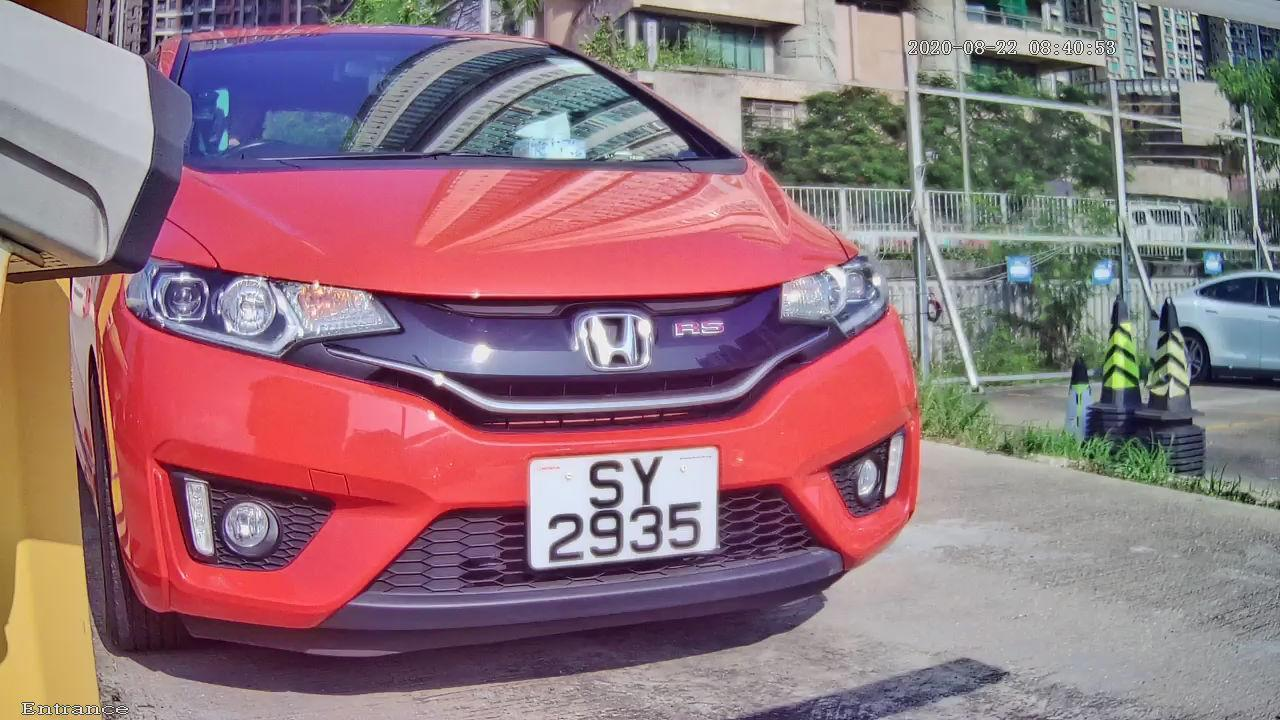License Plate: (509, 438, 738, 579)
